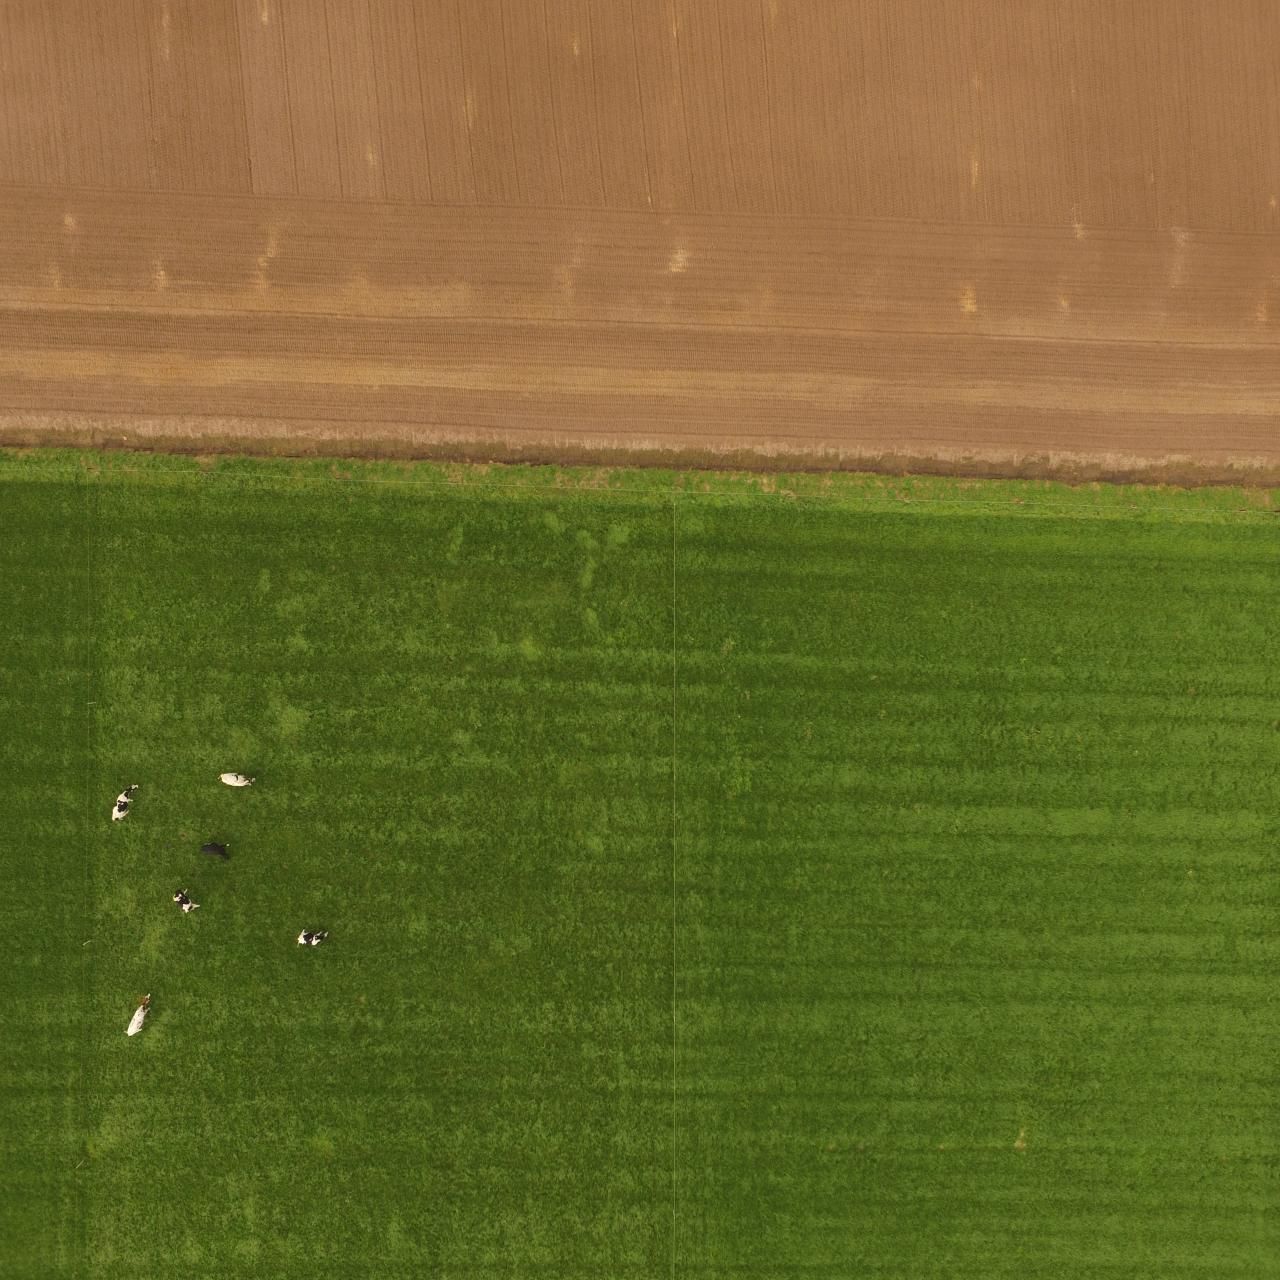cow: (100, 783, 145, 823), (127, 990, 152, 1042), (197, 836, 234, 864), (219, 769, 258, 794), (175, 888, 205, 919), (300, 924, 331, 951)
